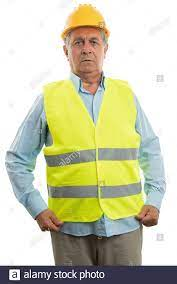Helmet: (57, 4, 112, 35)
Jacket: (38, 82, 149, 217)
